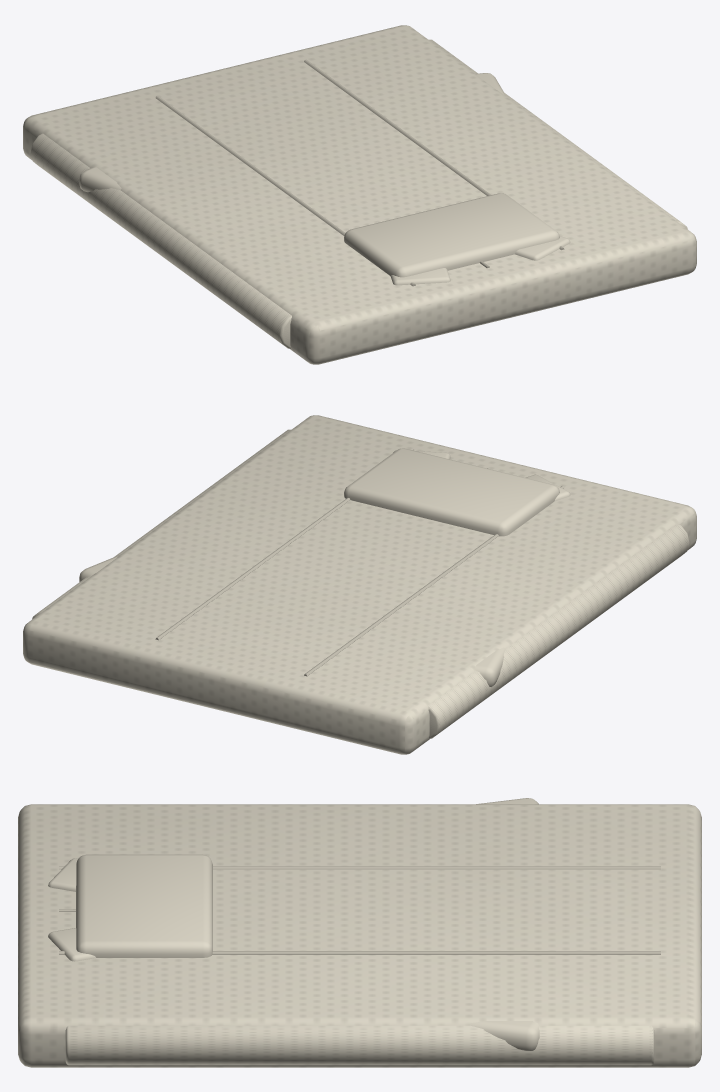
File: pf_polo_folded.glb
The picture shows the model from 3 angles, top to bottom: view 1: azimuth 30°, elevation 25°; view 2: azimuth 150°, elevation 25°; view 3: azimuth 270°, elevation 25°; orthographic projection. The views are drawn at different scales.
Visible parts, largest first — view 1: pf_polo_folded_body; view 2: pf_polo_folded_body; view 3: pf_polo_folded_body.
Boxes of the visible parts, x1=… form: pf_polo_folded_body: x1=23, y1=25, x2=696, y2=364; pf_polo_folded_body: x1=23, y1=415, x2=696, y2=754; pf_polo_folded_body: x1=18, y1=798, x2=701, y2=1067.
Size of the model in its own units: 0.2865 by 0.0373 by 0.354.
4 materials, 2 textured.
